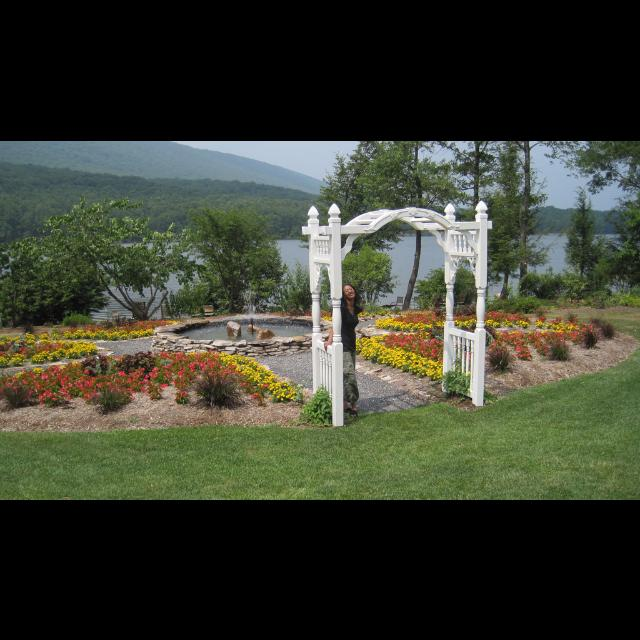Flower: (8, 346, 294, 404), (354, 329, 446, 378), (374, 307, 528, 329), (0, 331, 101, 363), (492, 327, 564, 361), (64, 319, 178, 337), (538, 314, 598, 340), (320, 312, 368, 324)
